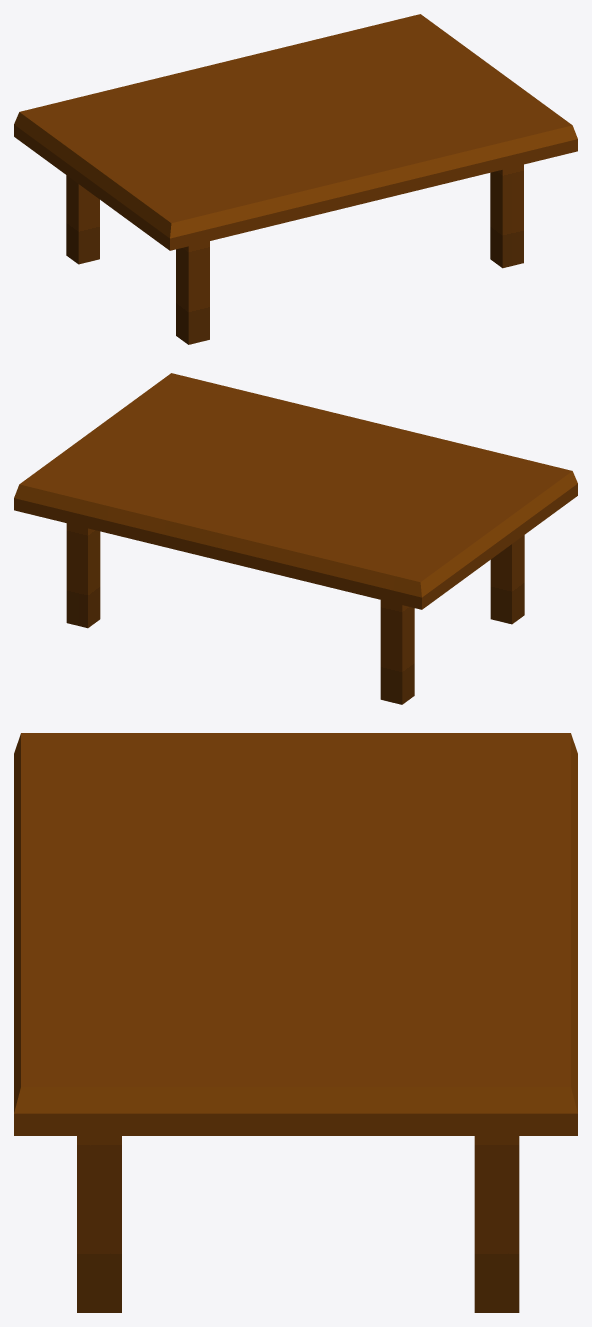
The model's file is SmallTable.fbx.
3 renders of one model, top to bottom at view 1: azimuth 30°, elevation 25°; view 2: azimuth 150°, elevation 25°; view 3: azimuth 270°, elevation 25°, orthographic. The views are drawn at different scales.
Parts seen in each view (by area): view 1: SmallTable_v1; view 2: SmallTable_v1; view 3: SmallTable_v1.
Boxes of the visible parts, <box> form: SmallTable_v1: <box>14,14,577,344</box>; SmallTable_v1: <box>14,373,577,704</box>; SmallTable_v1: <box>14,733,577,1312</box>.
Size of the model in its own units: 217 by 71.66 by 144.
